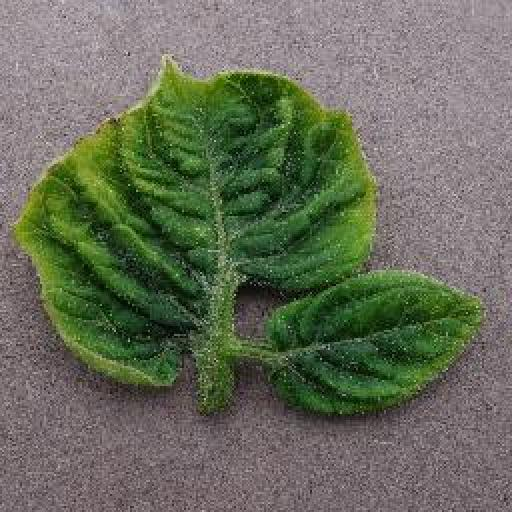disease_tomato: (16, 54, 378, 394), (259, 268, 479, 417)
